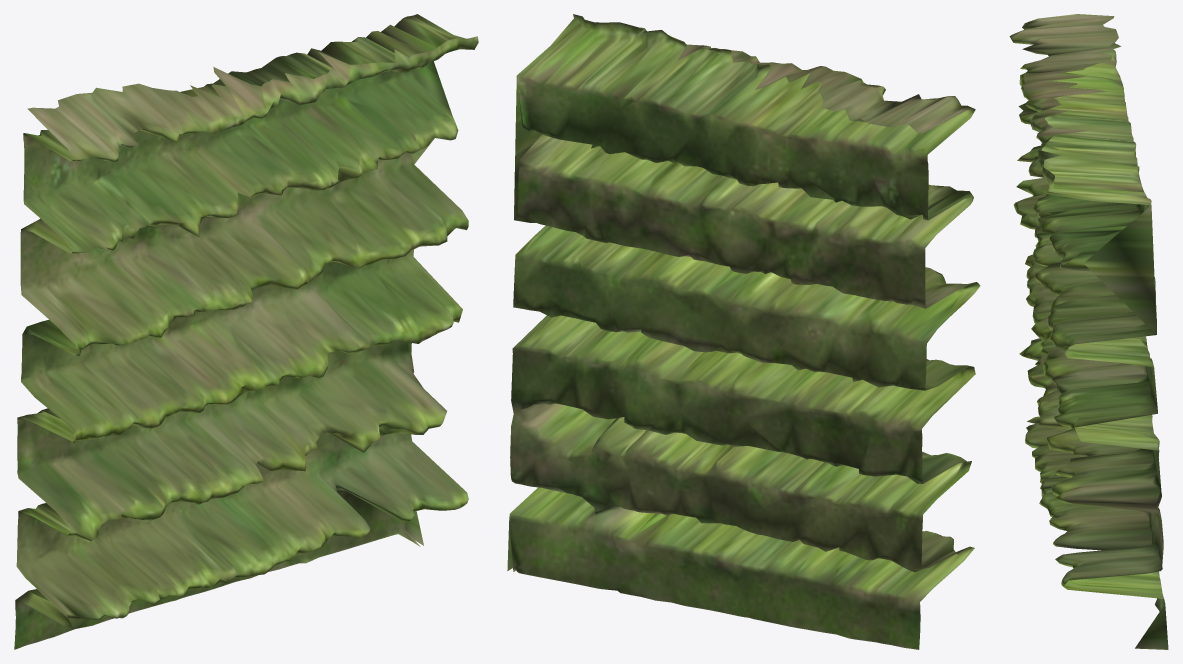
The model's file is map_190_100.obj.
The picture shows the model from 3 angles, left to right: view 1: azimuth 30°, elevation 25°; view 2: azimuth 150°, elevation 25°; view 3: azimuth 270°, elevation 25°; orthographic projection. The views are drawn at different scales.
Parts seen in each view (by area): view 1: map_190_100.obj; view 2: map_190_100.obj; view 3: map_190_100.obj.
Boxes of the visible parts, left/top/right/bottom form: map_190_100.obj: left=14, top=14, right=478, bottom=649; map_190_100.obj: left=507, top=14, right=980, bottom=649; map_190_100.obj: left=1009, top=14, right=1168, bottom=649.
Bounding box in the file's own units: 8 × 10 × 3.11.
Materials: 1 (1 with a texture image).
